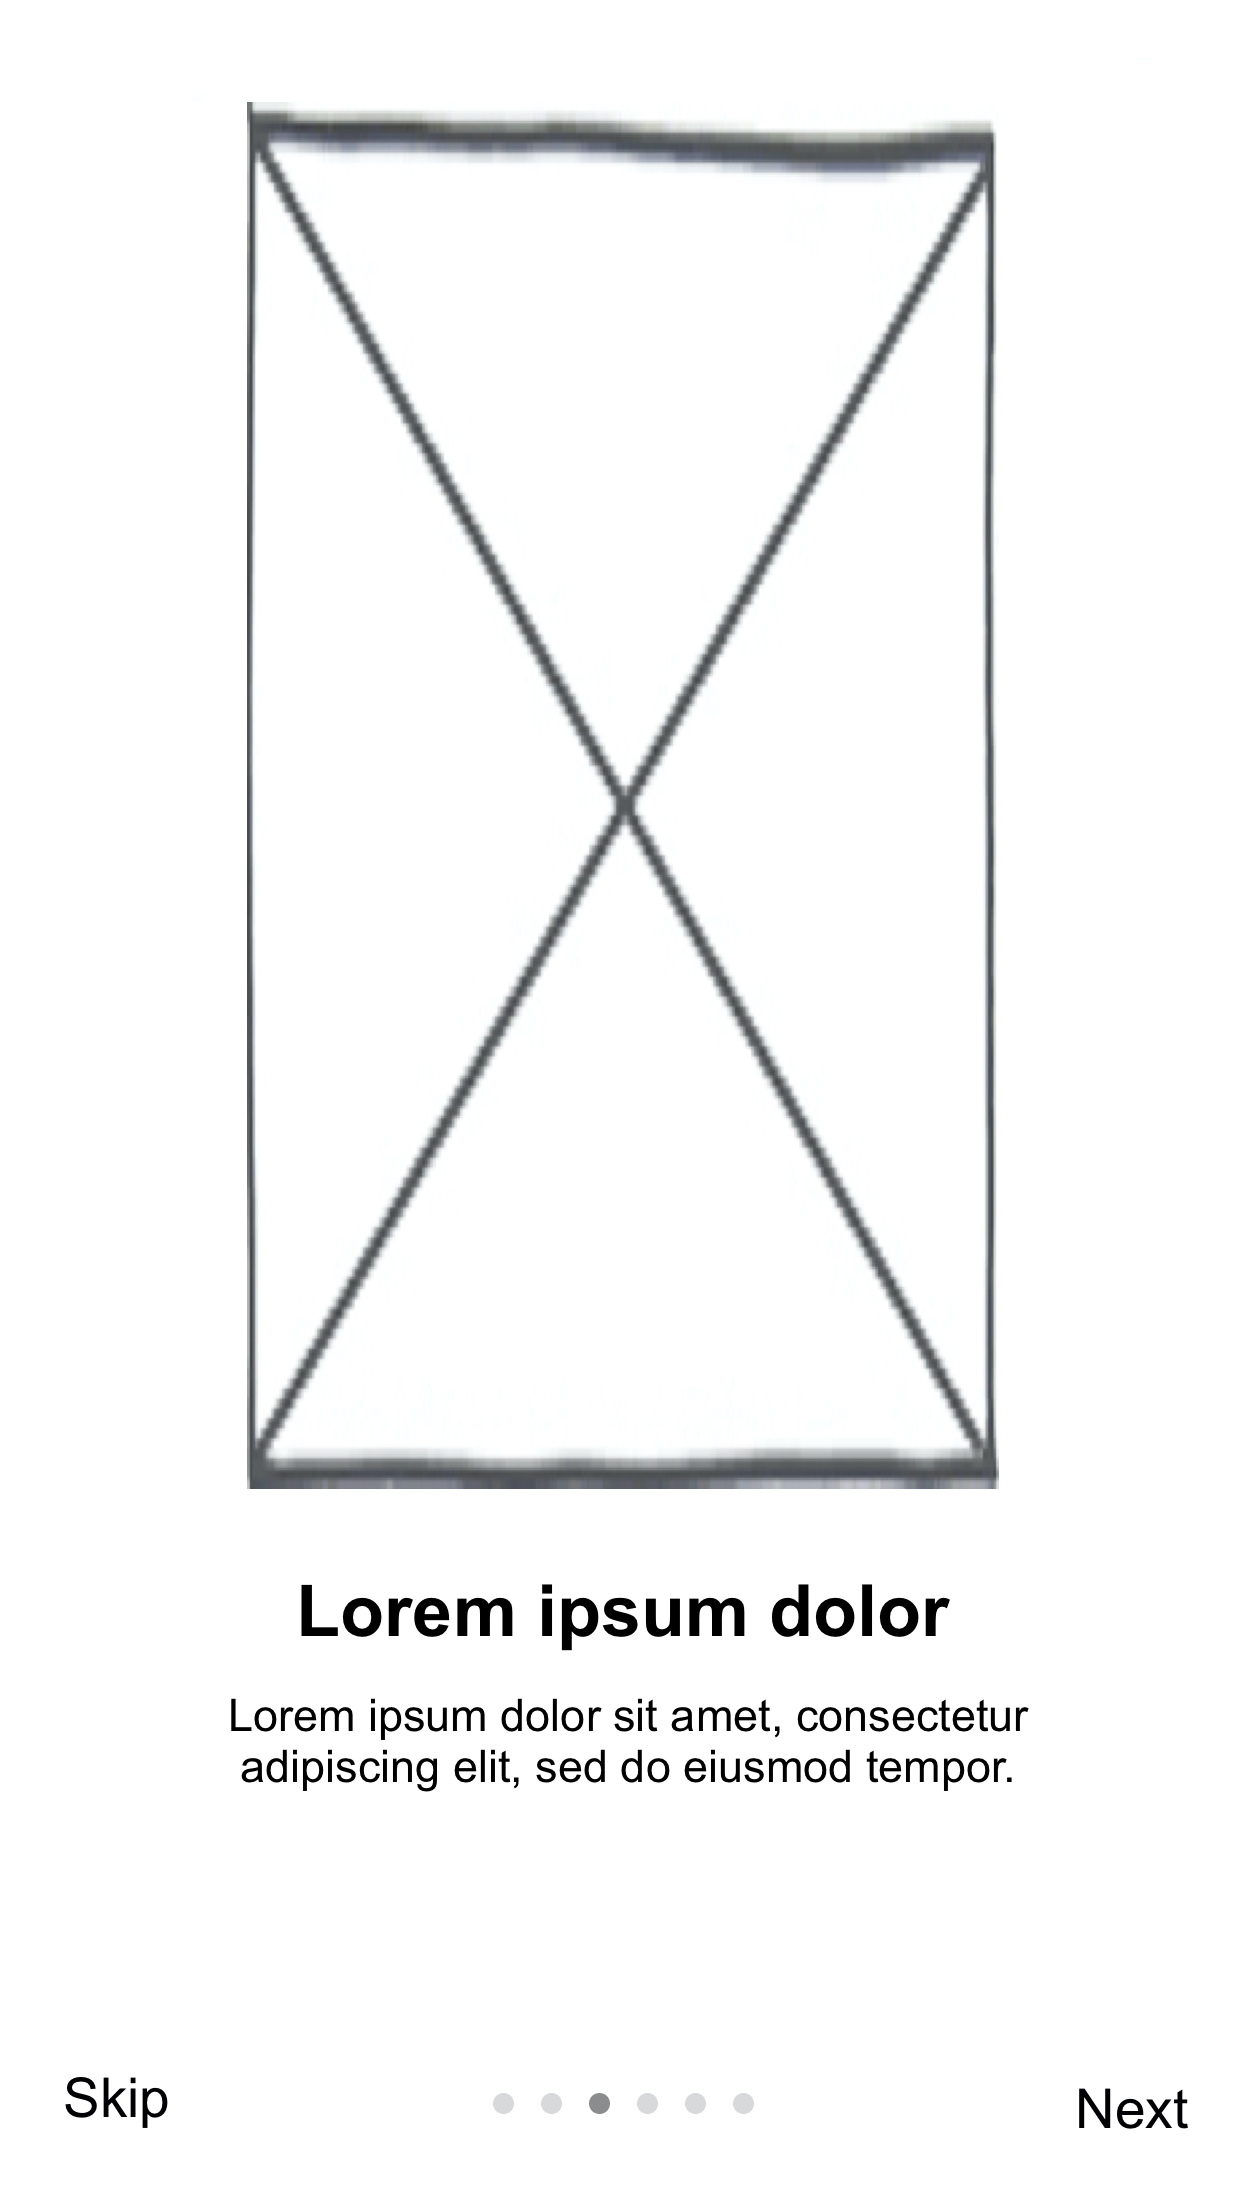Image: (249, 99, 1002, 1495)
PageIndicator: (491, 2093, 757, 2115)
Text: (230, 1697, 1031, 1792), (300, 1582, 952, 1651), (64, 2078, 168, 2129), (1078, 2087, 1189, 2131)
